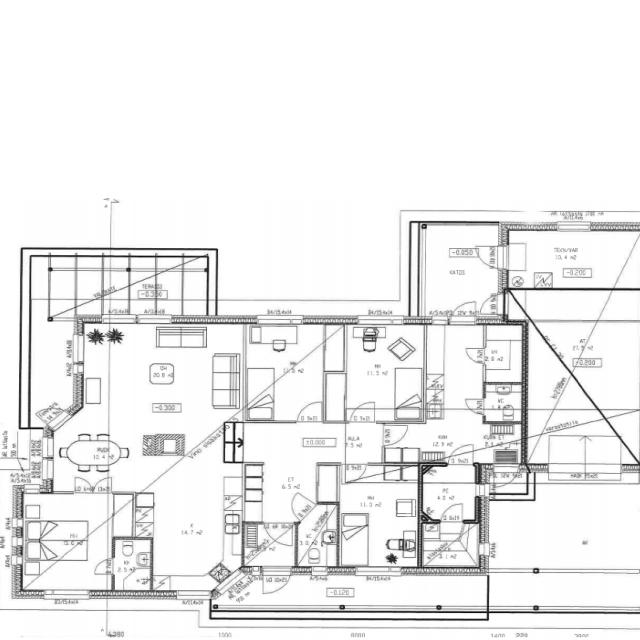door: (30, 396, 72, 431), (280, 490, 318, 521), (263, 566, 292, 600), (471, 246, 510, 269), (494, 463, 519, 493), (265, 522, 292, 548), (452, 295, 476, 324), (448, 443, 474, 466), (350, 401, 375, 423), (342, 464, 367, 486), (298, 401, 322, 423), (382, 426, 409, 445), (441, 502, 462, 523), (464, 399, 486, 415), (93, 559, 115, 574), (93, 476, 112, 493), (75, 476, 94, 493), (466, 349, 486, 363)
